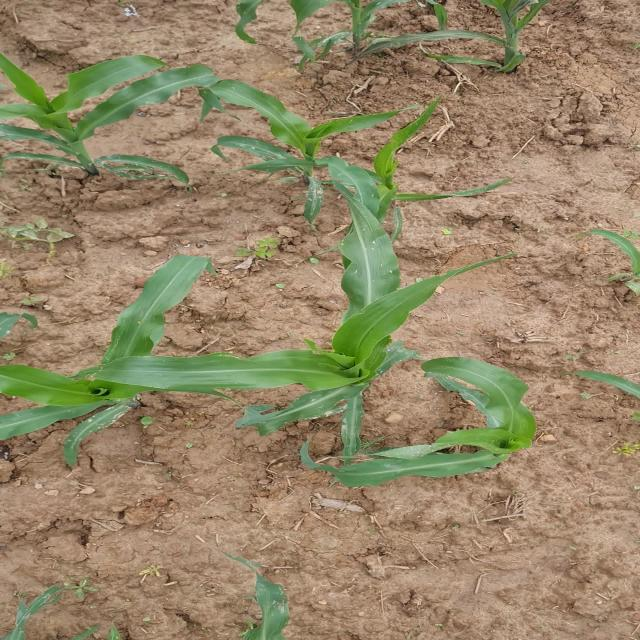maize: (0, 20, 190, 223), (296, 168, 404, 458), (398, 340, 562, 483), (0, 314, 178, 439), (204, 79, 356, 220), (447, 0, 555, 88), (194, 550, 298, 640), (9, 566, 132, 640), (319, 0, 425, 67), (563, 216, 640, 301), (580, 346, 640, 422)
